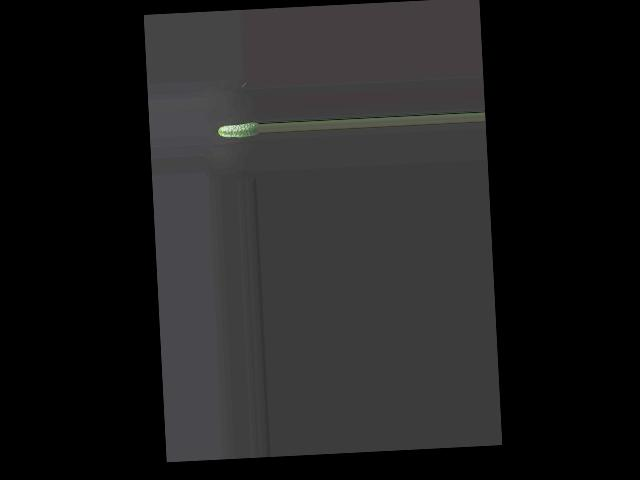cucumber: (217, 121, 259, 138)
